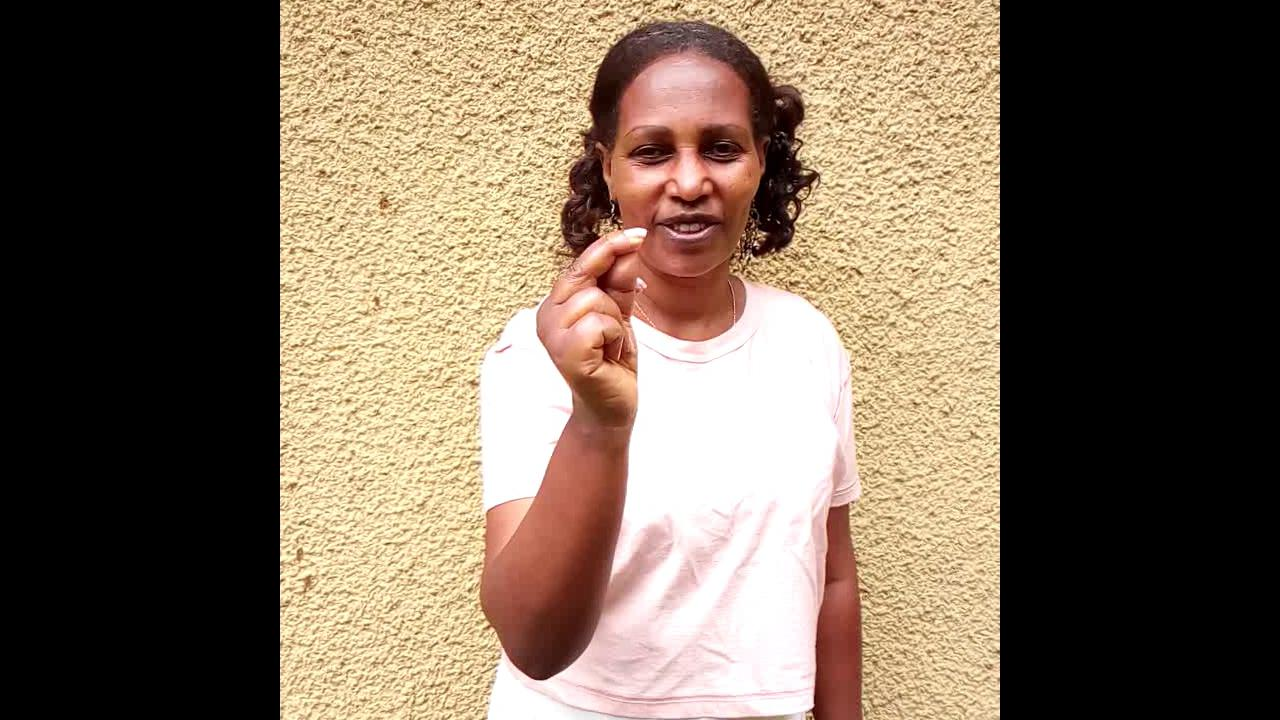CHE: (532, 224, 647, 549)
